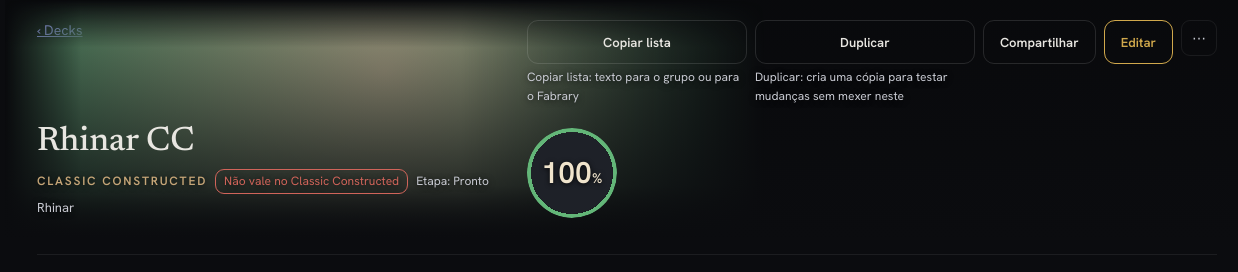
Scenario: DeckDetailLayout — getting the list out › copy list and duplicate are visible, delete only in the menu
expect the button "Copiar lista" is shown: met, box [527, 20, 747, 64]
expect the button "Duplicar" is shown: met, box [755, 20, 975, 64]
Click the button named "Mais ações do deck" at [1199, 38], box [1181, 20, 1217, 56]
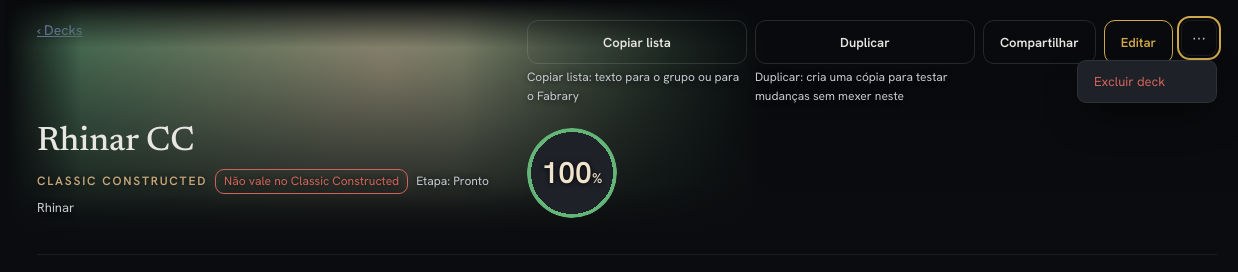
expect the menu item "Excluir deck" is shown: met, box [1078, 65, 1216, 98]
